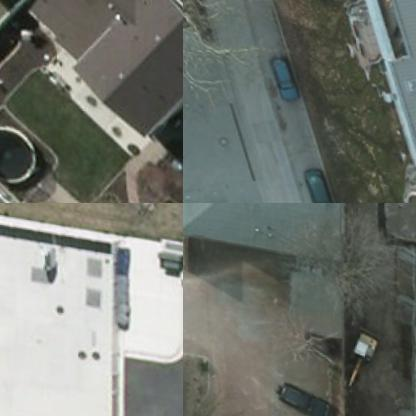car: (264, 378, 325, 415), (258, 52, 294, 104), (286, 162, 326, 202)
